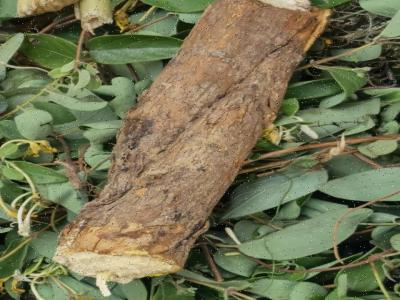Root: (54, 0, 399, 290)
